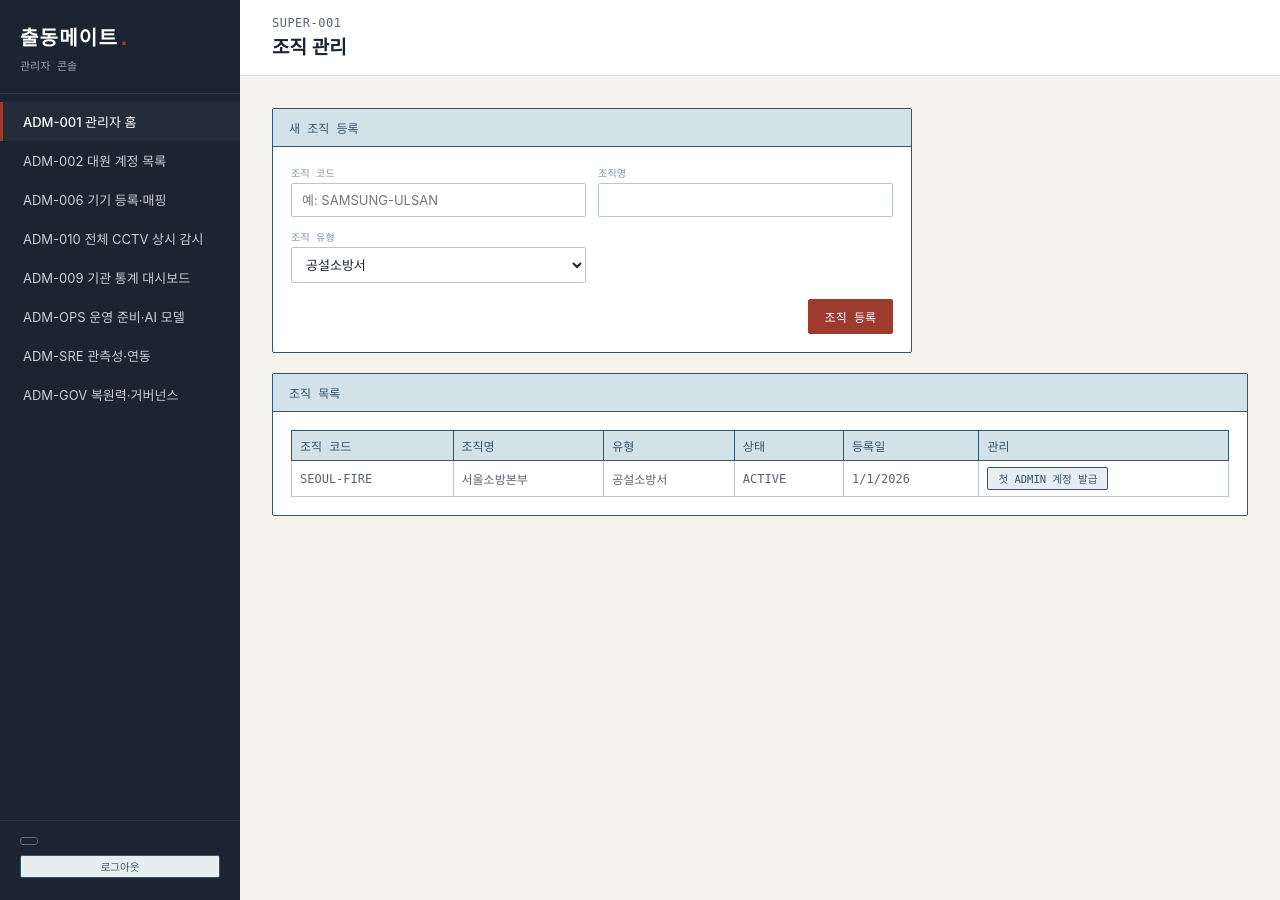
Scenario: OrganizationsPage › 첫 ADMIN 계정을 발급하면 임시 비밀번호가 1회 표시된다
This screenshot has width=1280, height=900.
Expected: the text "서울소방본부" is shown, [453, 460, 604, 496]
Step 1. Click the button "첫 ADMIN 계정 발급" → (1048, 478), box [987, 467, 1108, 490]
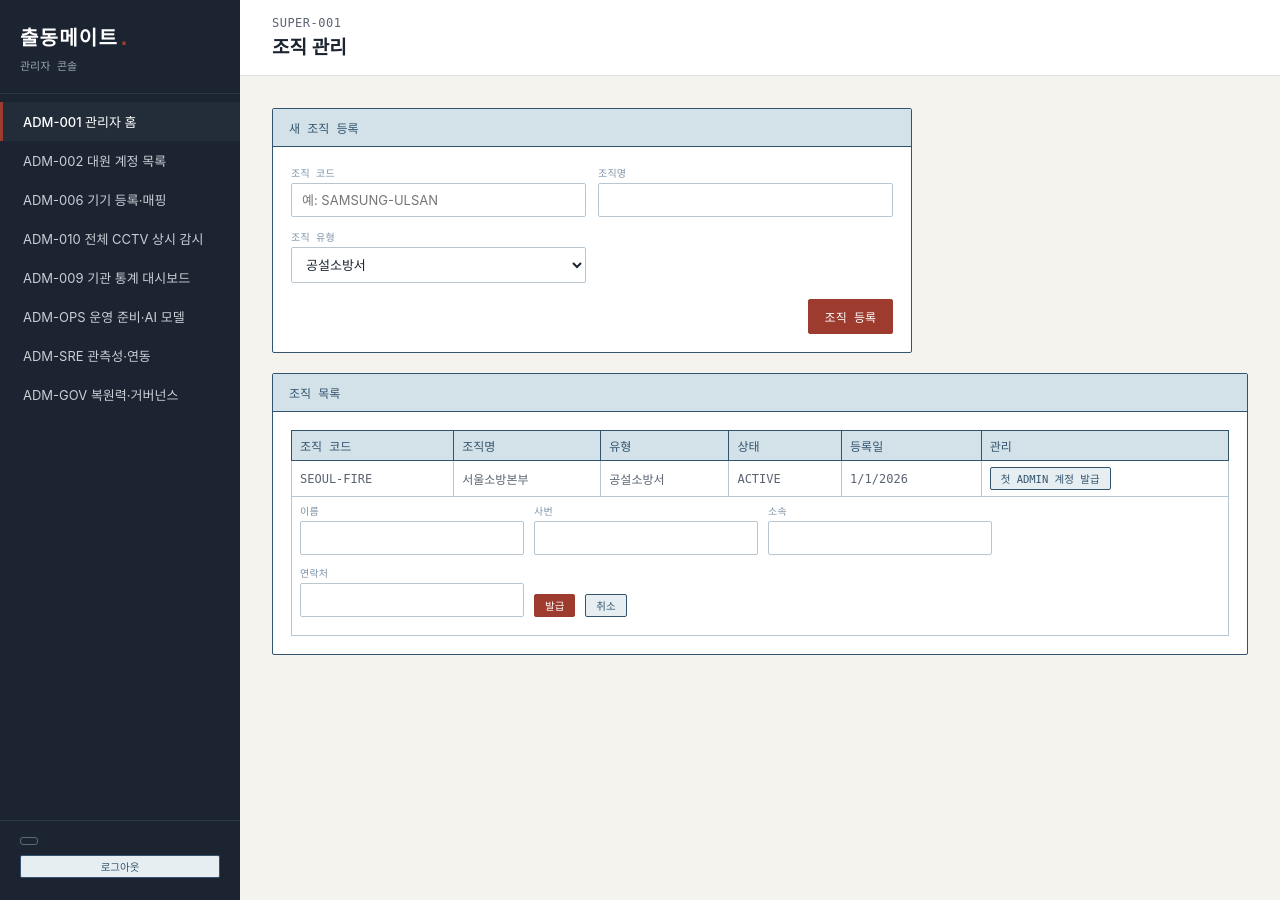
Step 2. Type "홍길동" into the field labelled "이름" → (412, 538), box [300, 521, 524, 555]
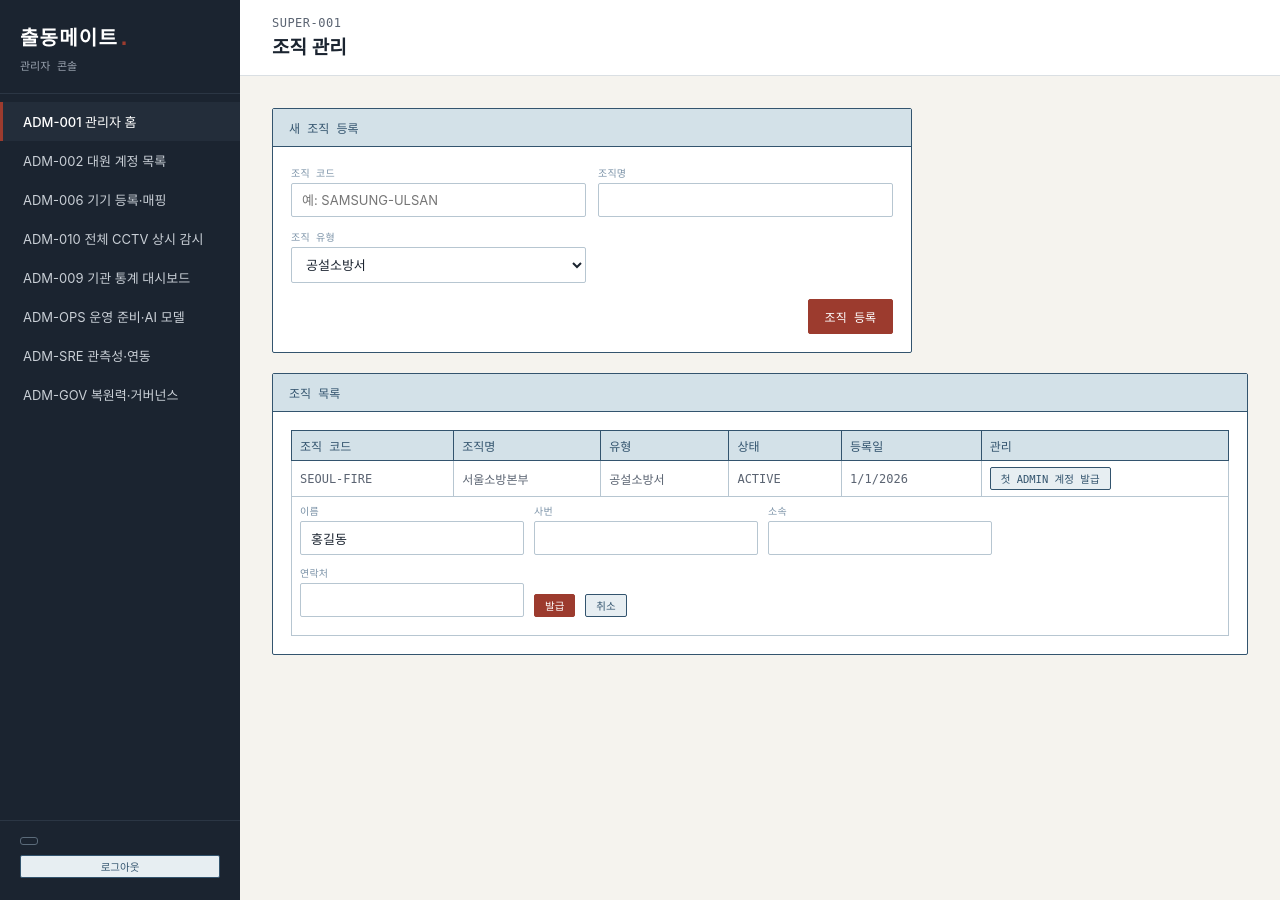
Step 3. Type "A0001" into the field labelled "사번" → (646, 538), box [534, 521, 758, 555]
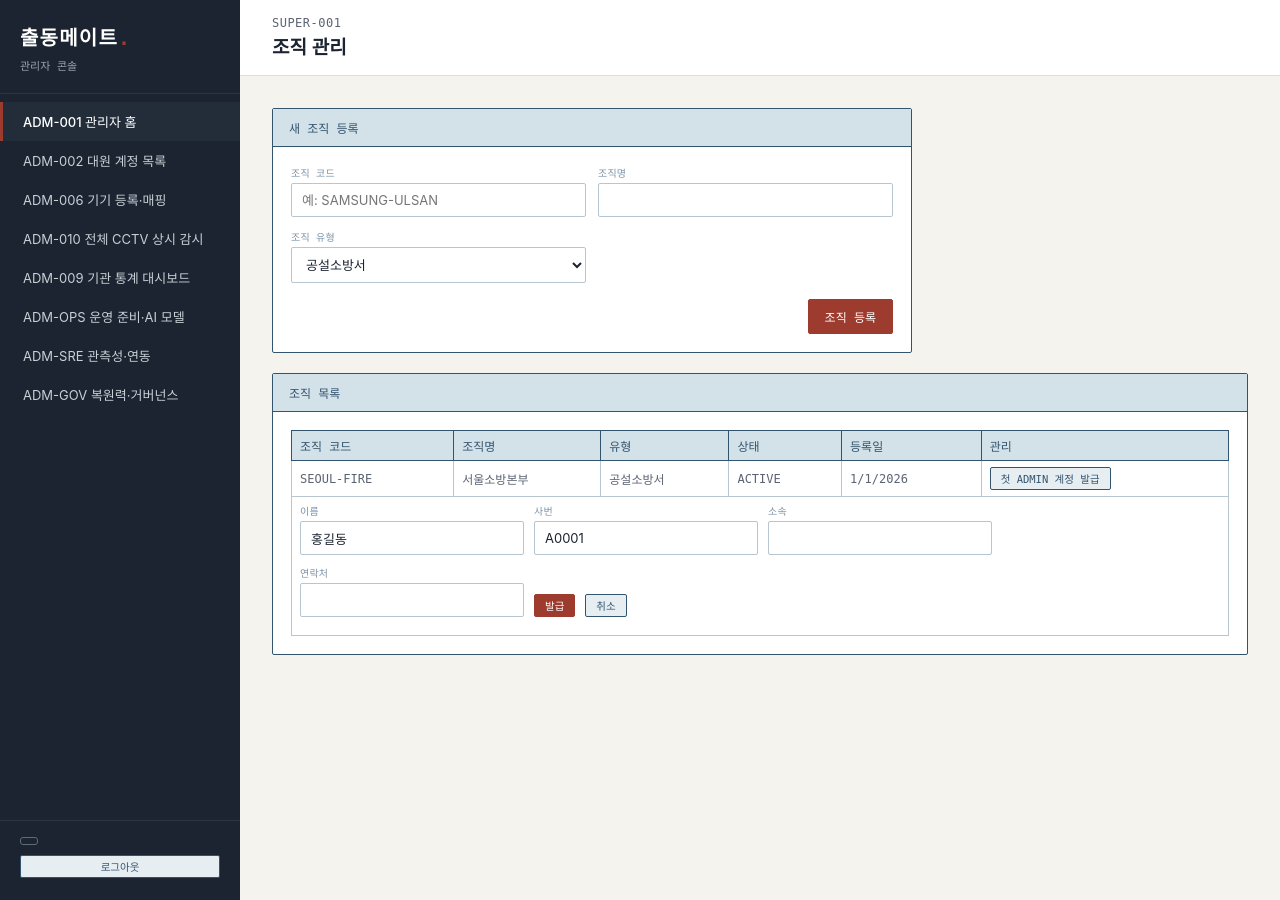
Step 4. Click the button "발급" → (555, 606), box [534, 594, 575, 617]
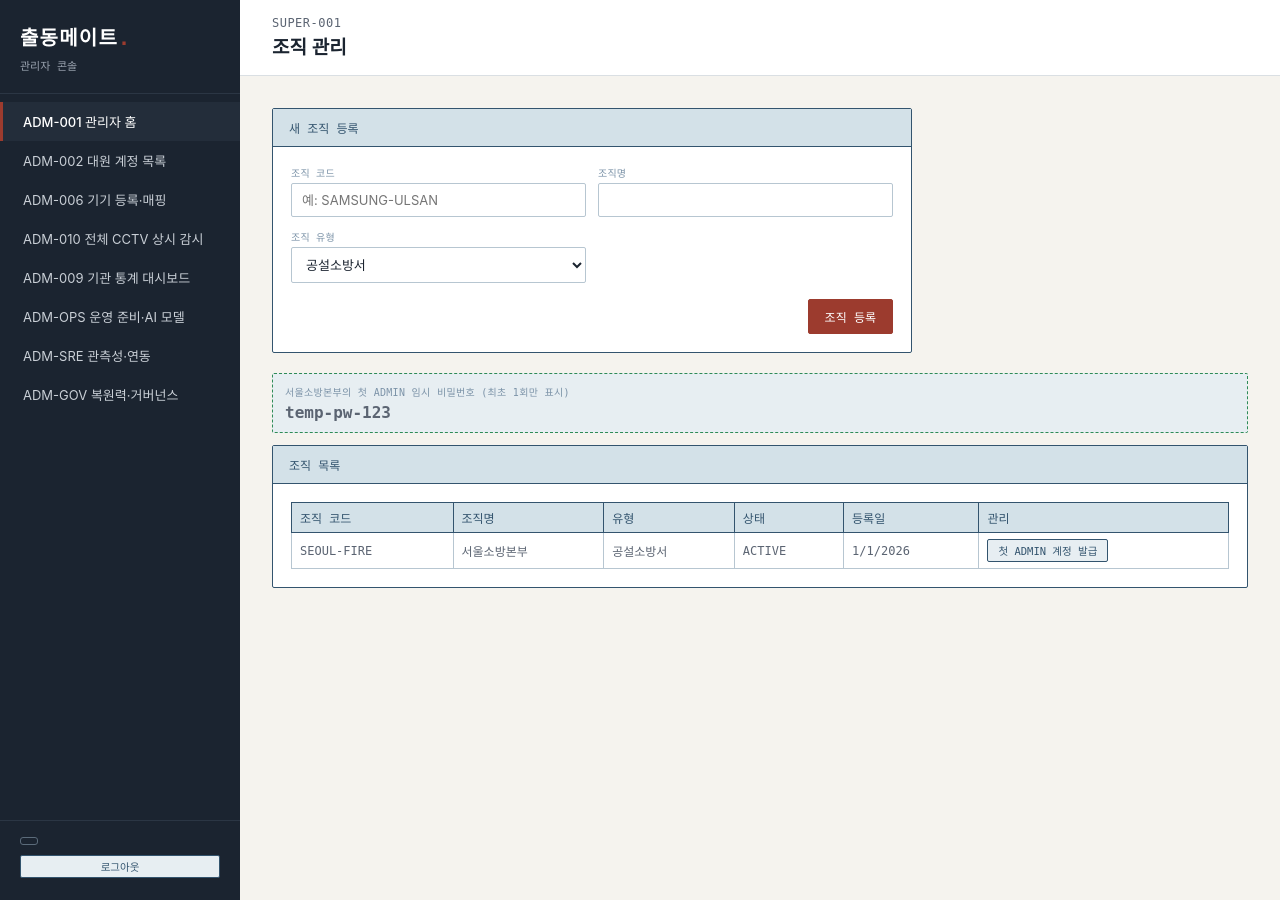
Expected: the text "temp-pw-123" is shown, [285, 403, 391, 422]
Expected: the text "서울소방본부의 첫 ADMIN 임시 비밀번호 (최초 1회만 표시)" is shown, [285, 387, 570, 398]
Expected: the label labelled "사번" is gone
